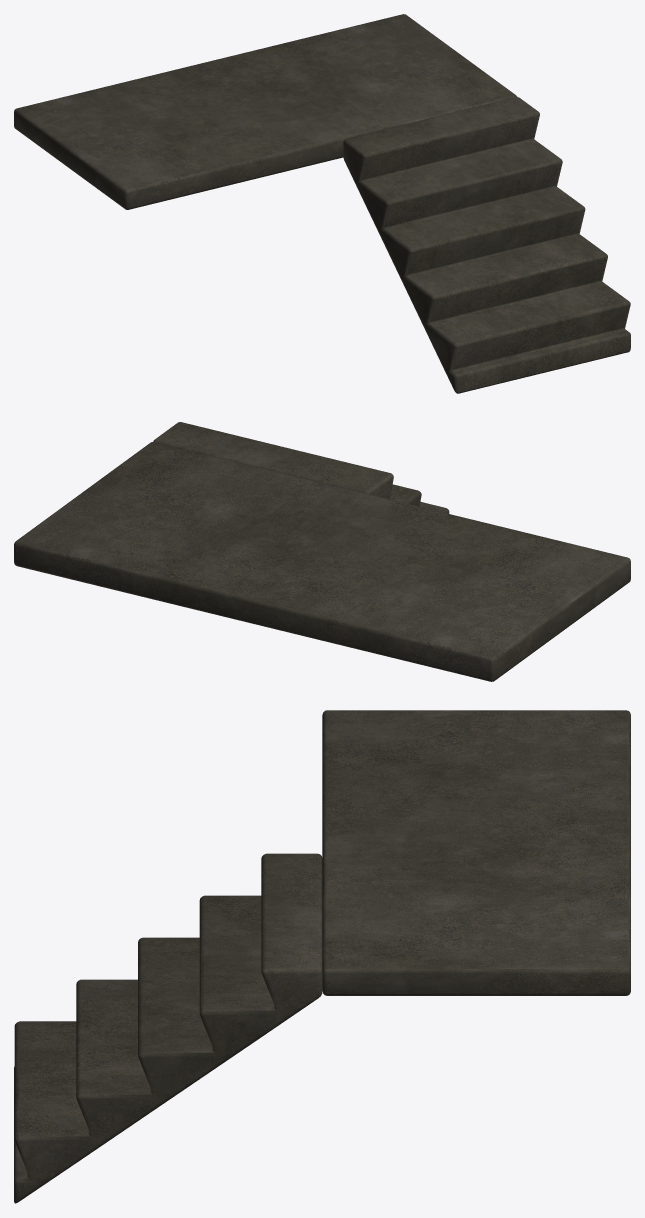
File: stairs_1.obj
The picture shows the model from 3 angles, top to bottom: view 1: azimuth 30°, elevation 25°; view 2: azimuth 150°, elevation 25°; view 3: azimuth 270°, elevation 25°; orthographic projection. The views are drawn at different scales.
Visible parts, largest first — view 1: stairs_1; view 2: stairs_1; view 3: stairs_1.
Boxes of the visible parts, bbox=[...] form: stairs_1: bbox=[14, 14, 630, 393]; stairs_1: bbox=[14, 422, 630, 681]; stairs_1: bbox=[14, 710, 630, 1203].
Size of the model in its own units: 4 by 1.69 by 4.
